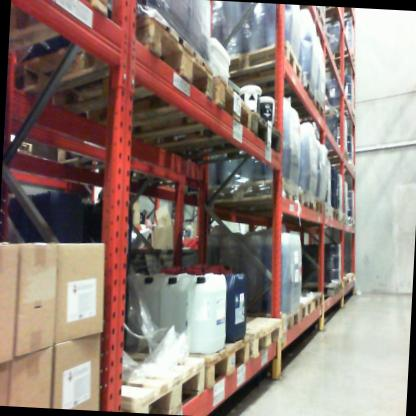pallet: (52, 94, 286, 187), (9, 7, 219, 109), (42, 61, 254, 141), (116, 349, 211, 412), (223, 31, 302, 96), (10, 0, 115, 40), (183, 335, 250, 394), (199, 174, 305, 209), (224, 316, 282, 362), (259, 66, 316, 104), (300, 5, 363, 38), (257, 303, 299, 338), (317, 140, 356, 174), (313, 45, 358, 74), (322, 97, 363, 127), (276, 93, 326, 117), (299, 288, 326, 317), (301, 280, 340, 298), (297, 187, 318, 215), (296, 298, 313, 325), (315, 192, 329, 217), (325, 197, 336, 222), (331, 207, 345, 225), (346, 211, 357, 232), (337, 278, 350, 287)
stillage: (123, 236, 206, 294)
